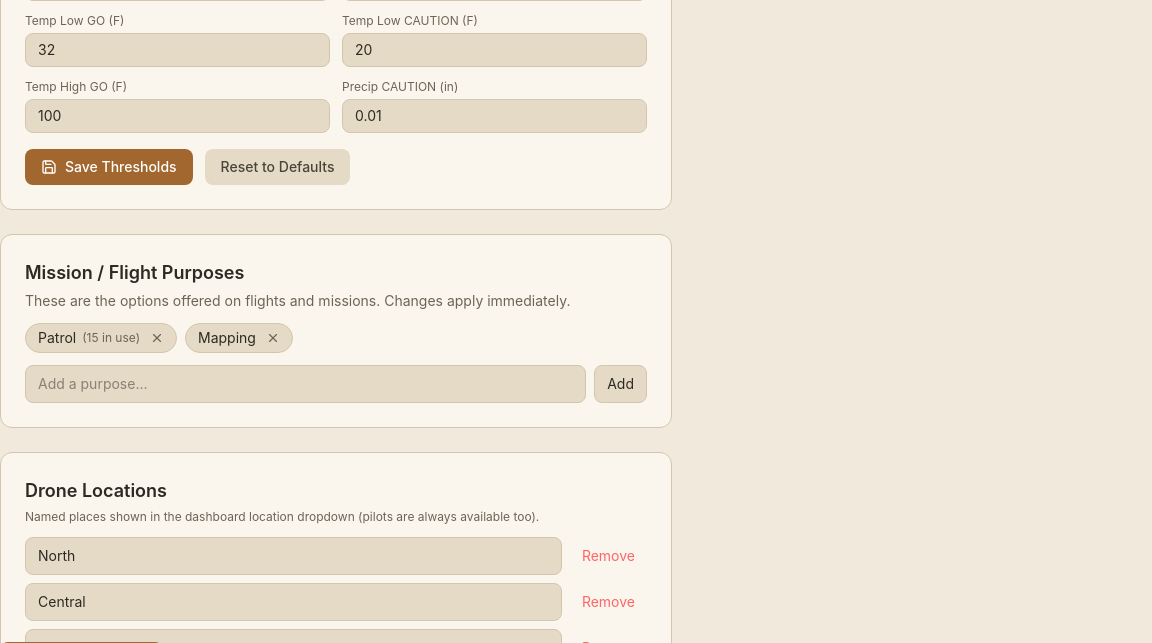
Test: SettingsPage › warns what deleting will do before doing it
The image size is (1152, 643).
(page scrolled)
expect the text "Patrol" is shown: met, box [38, 328, 76, 348]
Click the button named "Delete purpose Patrol". click: [157, 338]
box: [150, 331, 164, 345]
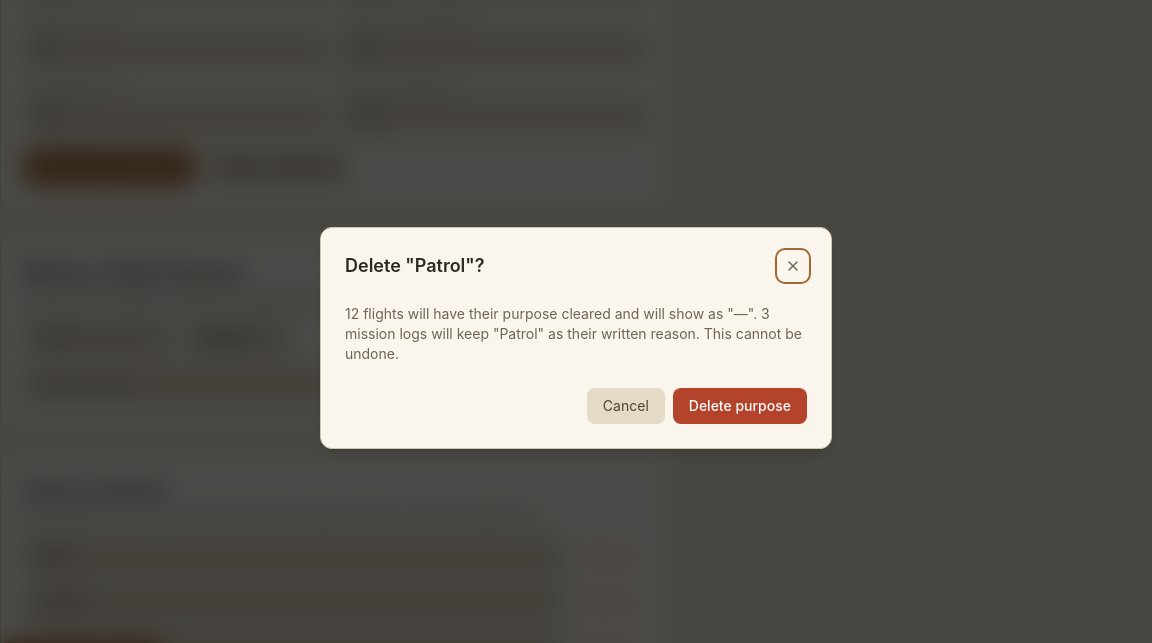
expect the heading "Delete \"Patrol\"?" is shown: met, box [345, 252, 484, 280]
expect the text "3 mission logs will keep \"Patrol\"" is shown: met, box [345, 305, 802, 362]
